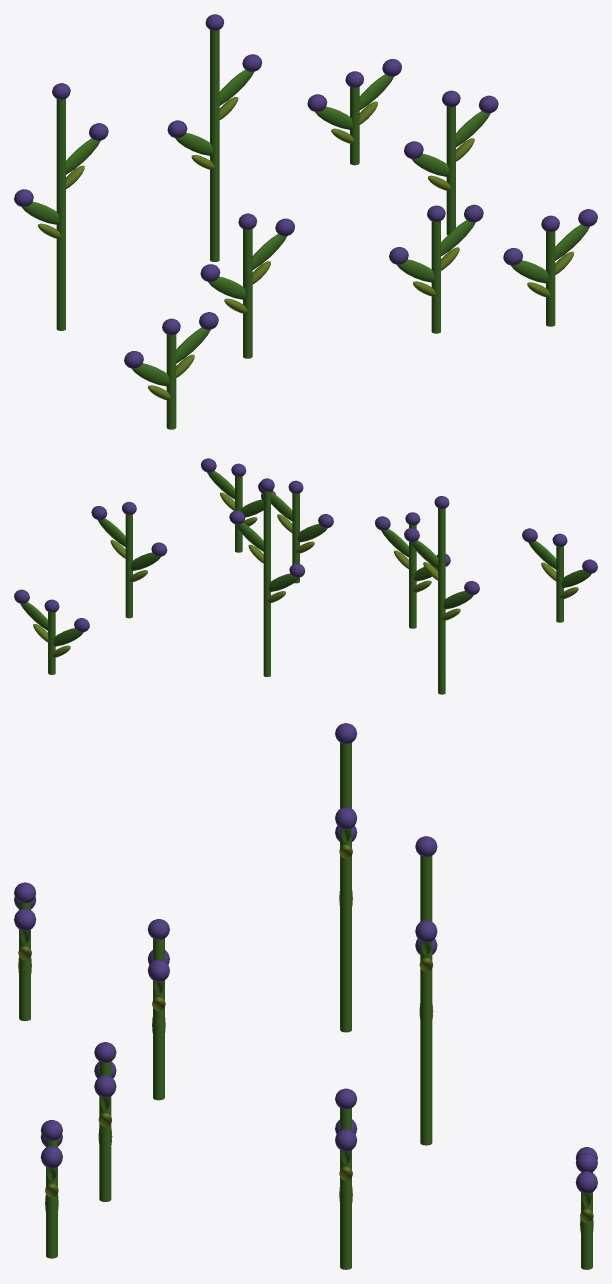
Rendered from CMU3DRMCGrassc1.glb.
3 views of the same model, one above another, from view 1: azimuth 30°, elevation 25°; view 2: azimuth 150°, elevation 25°; view 3: azimuth 270°, elevation 25° (orthographic). The views are drawn at different scales.
Visible parts, largest first — view 1: flower stalk 1, flower stalk 0, flower stalk 4, flower stalk 3, flower stalk 6, flower stalk 5, flower stalk 7, flower stalk 2; view 2: flower stalk 0, flower stalk 1, flower stalk 3, flower stalk 4, flower stalk 5, flower stalk 6, flower stalk 2, flower stalk 7, flower stalk 5 diagonal branch 1, flower stalk 1 diagonal branch 1, flower stalk 0 diagonal branch 1, flower stalk 3 diagonal branch 1 (+9 smaller); view 3: flower stalk 1, flower stalk 0, flower stalk 4, flower stalk 3, flower stalk 6, flower stalk 7, flower stalk 5.
Boxes of the visible parts, x1,y1,x2,y2 form: flower stalk 1: [210, 29, 219, 261]; flower stalk 0: [56, 98, 65, 330]; flower stalk 4: [243, 229, 252, 358]; flower stalk 3: [446, 106, 455, 234]; flower stalk 6: [431, 221, 440, 333]; flower stalk 5: [166, 334, 176, 429]; flower stalk 7: [546, 231, 555, 326]; flower stalk 2: [350, 86, 359, 165]; flower stalk 0: [438, 508, 445, 694]; flower stalk 1: [263, 491, 270, 676]; flower stalk 3: [125, 514, 132, 618]; flower stalk 4: [409, 524, 416, 628]; flower stalk 5: [556, 546, 563, 622]; flower stalk 6: [292, 493, 299, 583]; flower stalk 2: [48, 612, 55, 674]; flower stalk 7: [235, 476, 242, 552]; flower stalk 5 diagonal branch 1: [528, 541, 556, 569]; flower stalk 1 diagonal branch 1: [236, 523, 263, 551]; flower stalk 0 diagonal branch 1: [410, 540, 438, 568]; flower stalk 3 diagonal branch 1: [98, 518, 125, 547]; flower stalk 1: [420, 855, 432, 1145]; flower stalk 0: [340, 742, 351, 1032]; flower stalk 4: [153, 938, 164, 1100]; flower stalk 3: [340, 1108, 351, 1269]; flower stalk 6: [99, 1061, 111, 1201]; flower stalk 7: [46, 1139, 57, 1258]; flower stalk 5: [19, 902, 30, 1021].
Size of the model in its own units: 0.8435 by 0.394 by 0.6823.
